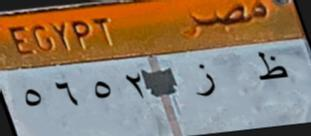2: (122, 70, 145, 104)
5: (90, 78, 113, 104), (20, 86, 42, 113)
6: (54, 78, 79, 108)
Thaa: (252, 48, 290, 84)
zay: (191, 61, 219, 105)
